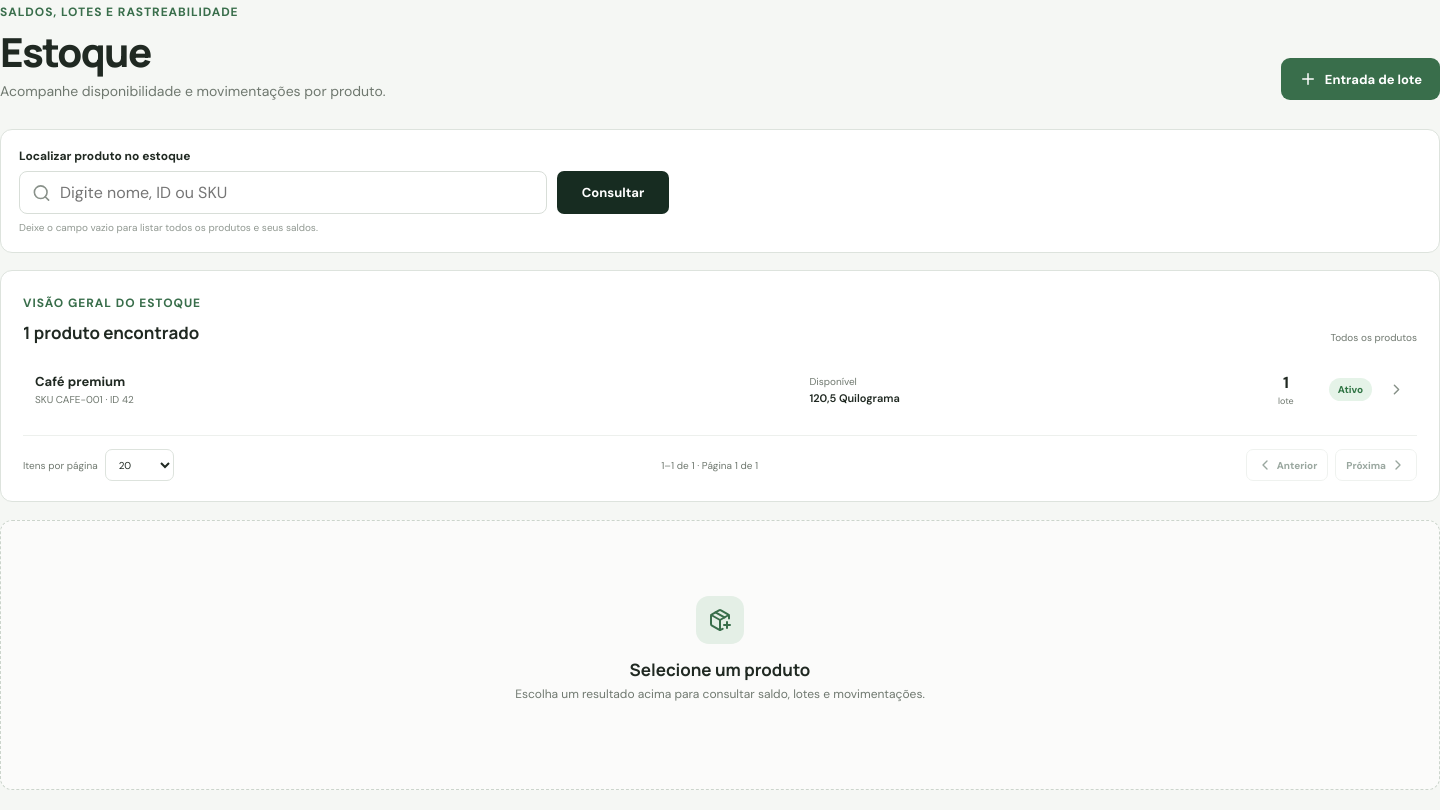
Test case: InventoryPage › requires a real product selection and creates a lot with its internal ID
Click the button "Entrada de lote".
click(1360, 79)  # box [1281,58,1439,100]
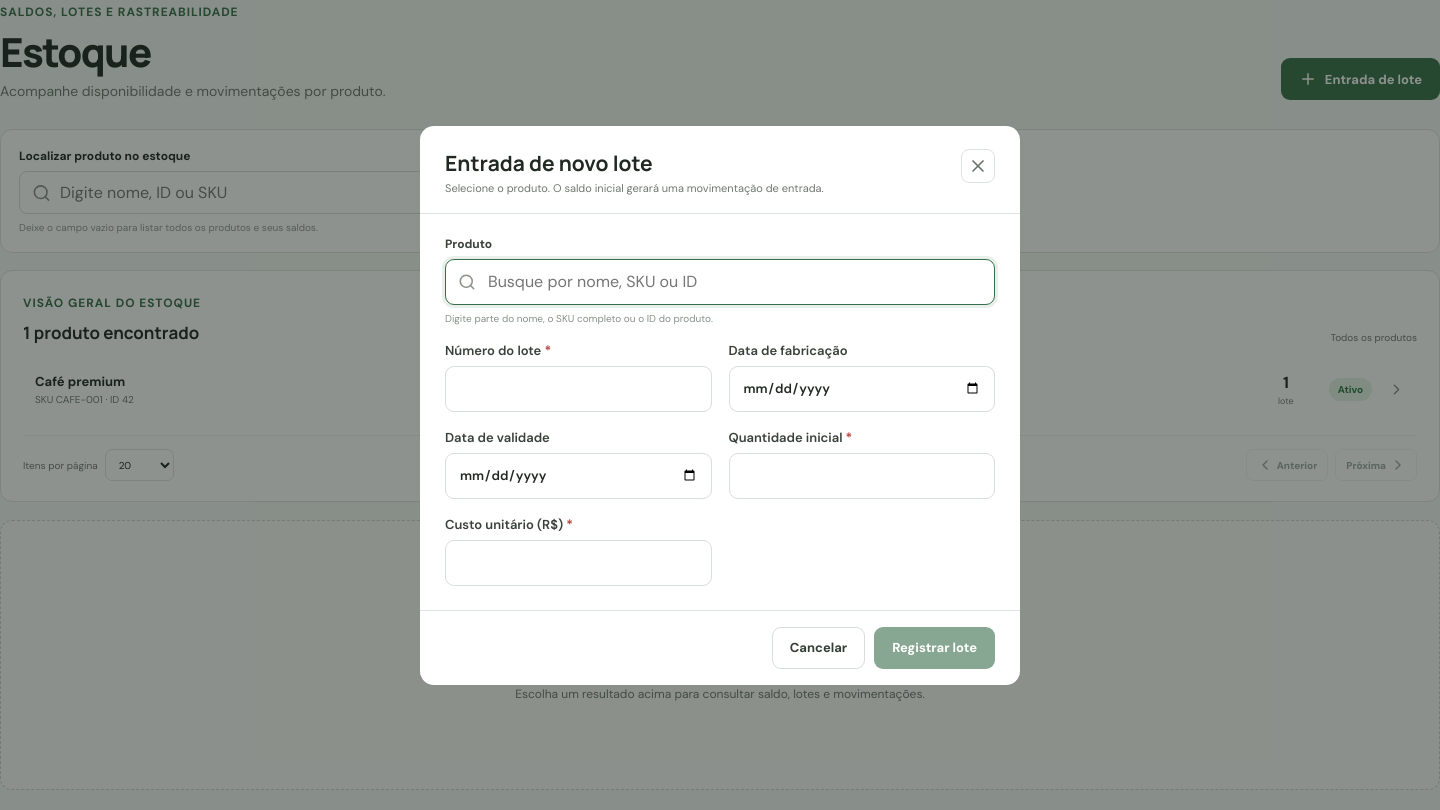
Type "Café" into the dropdown labelled "Produto".
click(720, 282); type("Café")  # box [445,258,995,304]
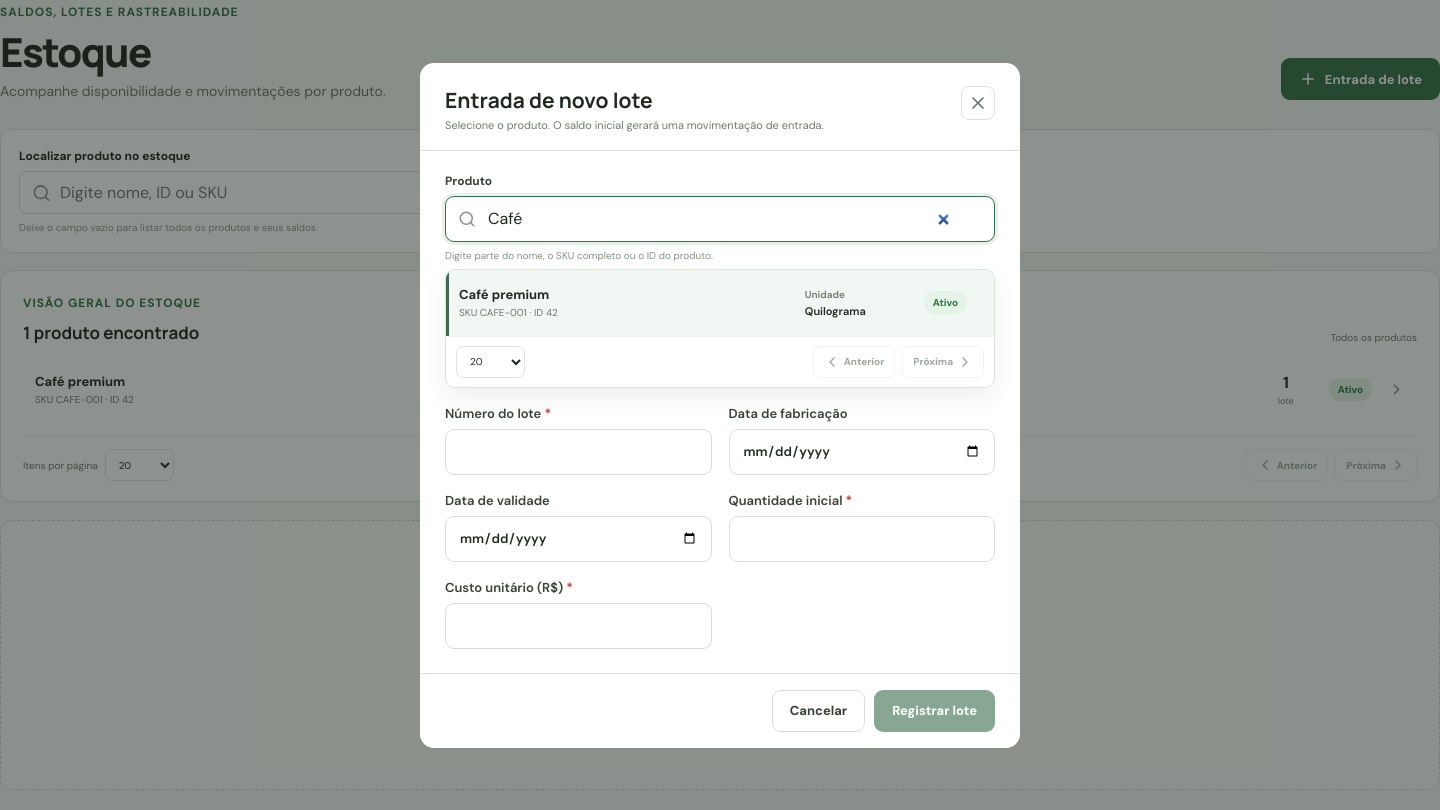
Expected: the button "Registrar lote" is disabled, [874,690,995,732]
Click the option "Café premium SKU CAFE-001 · ID 42 Unidade Quilograma Ativo".
click(504, 294)  # box [446,270,994,336]
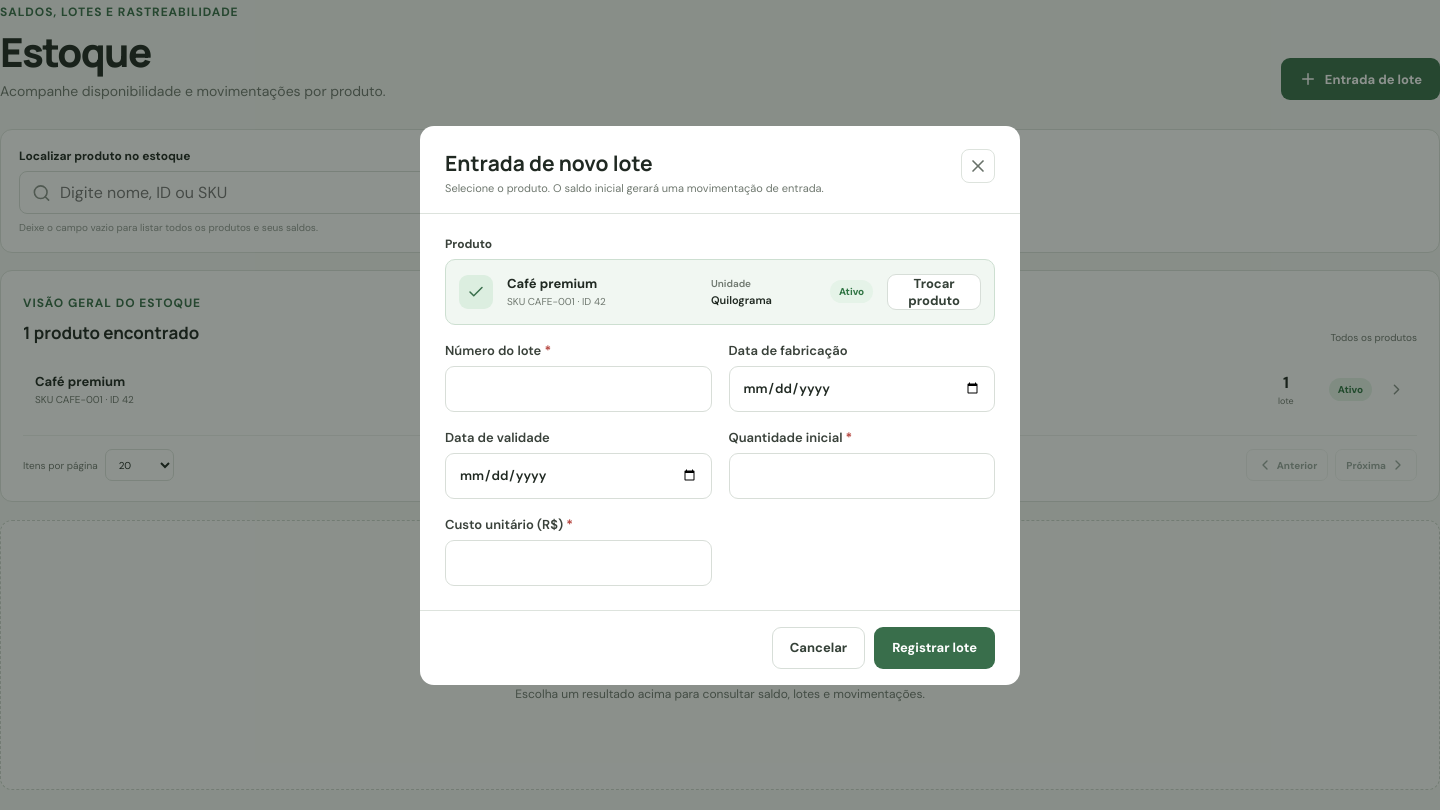
Expected: the button "Registrar lote" is enabled, [874,626,995,668]
Expected: the text "ID do produto" is gone
Type "LOTE-2026-001" into the field labelled "Número do lote *".
click(578, 388); type("LOTE-2026-001")  # box [445,366,712,412]
Type "150" into the number field labelled "Quantidade inicial *".
click(862, 476); type("150")  # box [728,452,995,498]
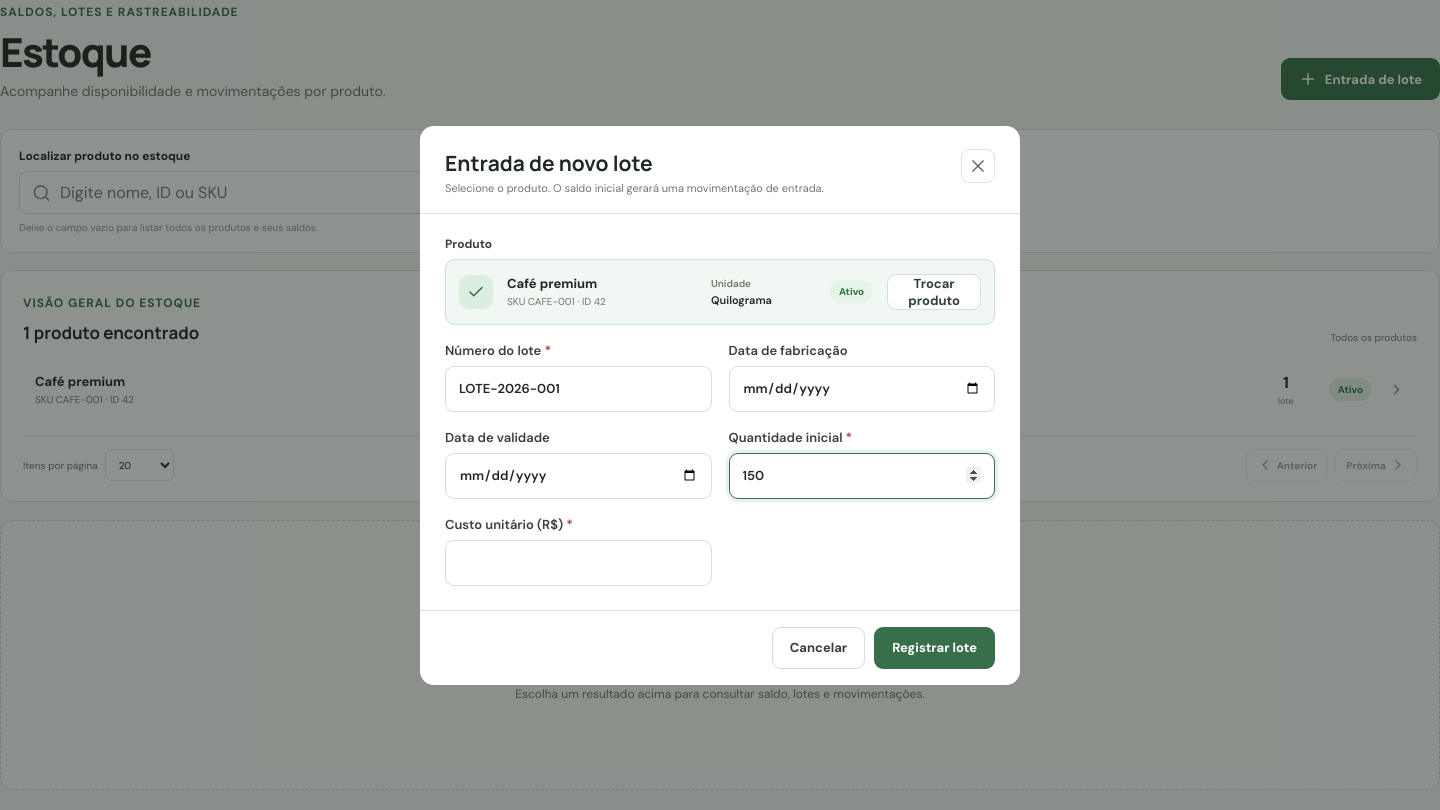
Type "18.75" into the number field labelled "Custo unitário (R$) *".
click(578, 562); type("18.75")  # box [445,540,712,586]
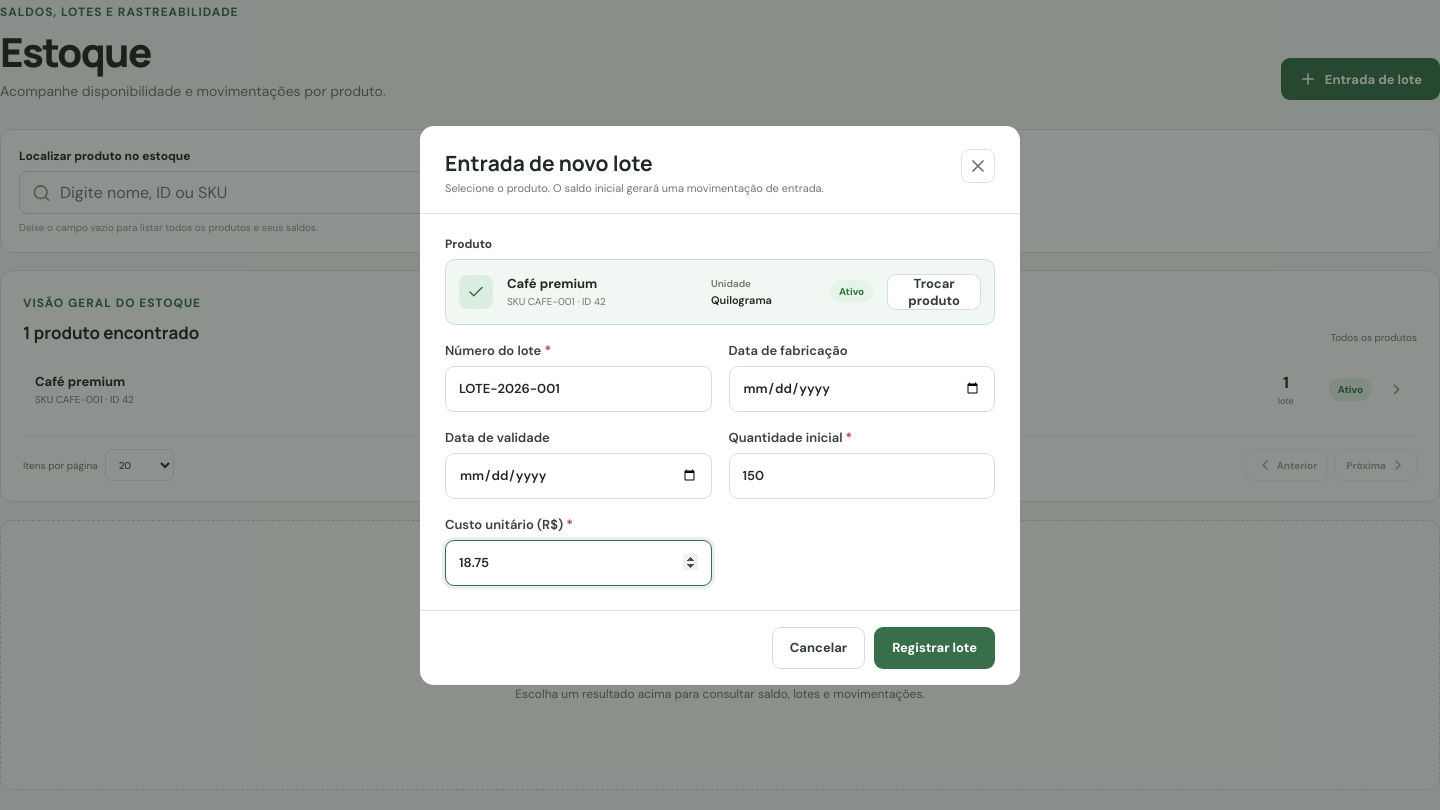
Click the button "Registrar lote".
click(935, 648)  # box [874,626,995,668]
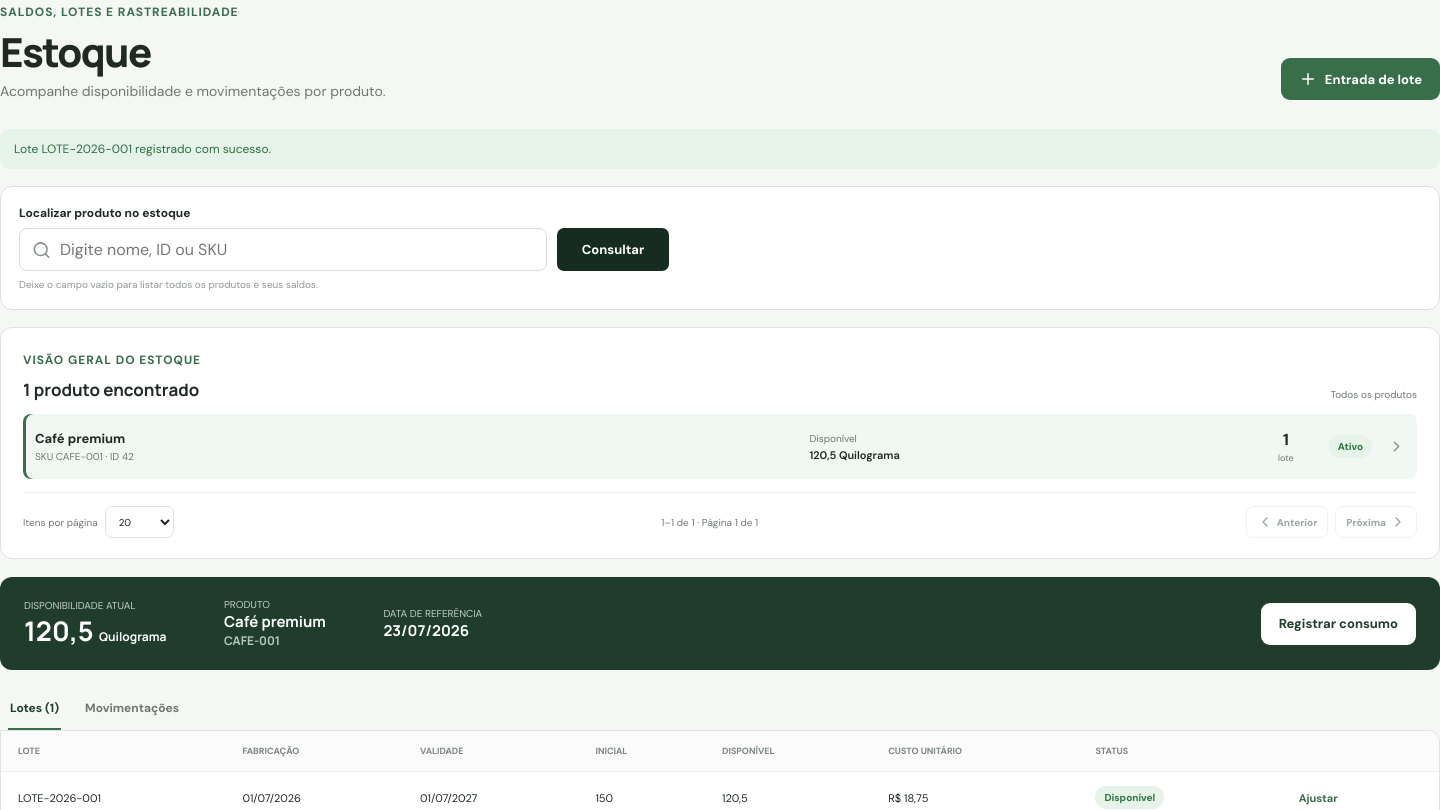
Expected: the text "Lote LOTE-2026-001 registrado com sucesso." is shown, [0,129,1439,169]
